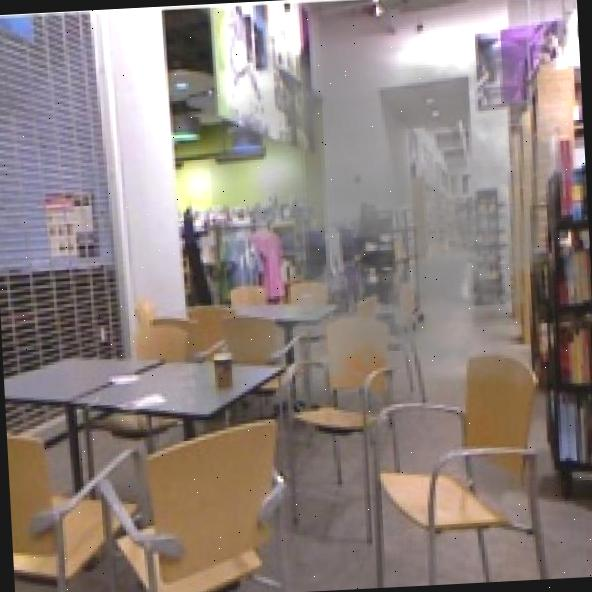smoke: (204, 31, 592, 399)
